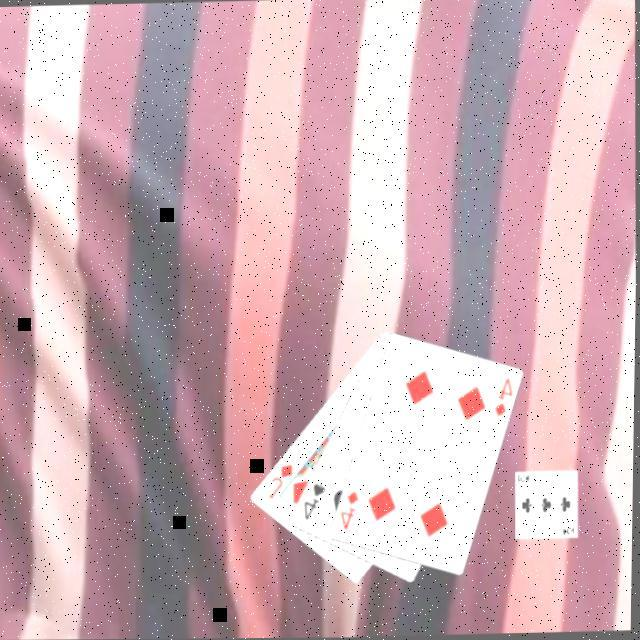4D: (493, 376, 519, 422), (340, 489, 366, 534)
4S: (302, 480, 332, 524)
JD: (266, 461, 300, 504)
